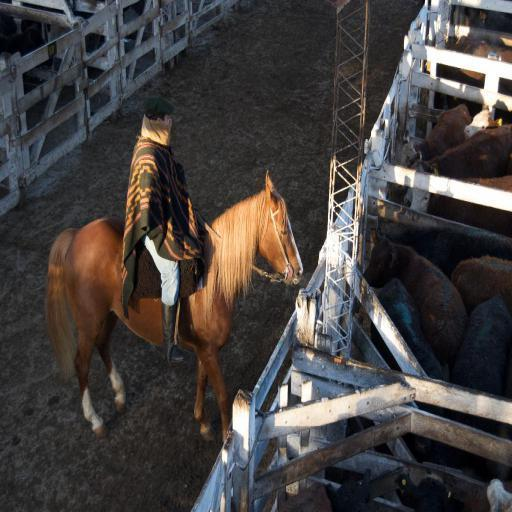horse: (43, 168, 305, 446)
